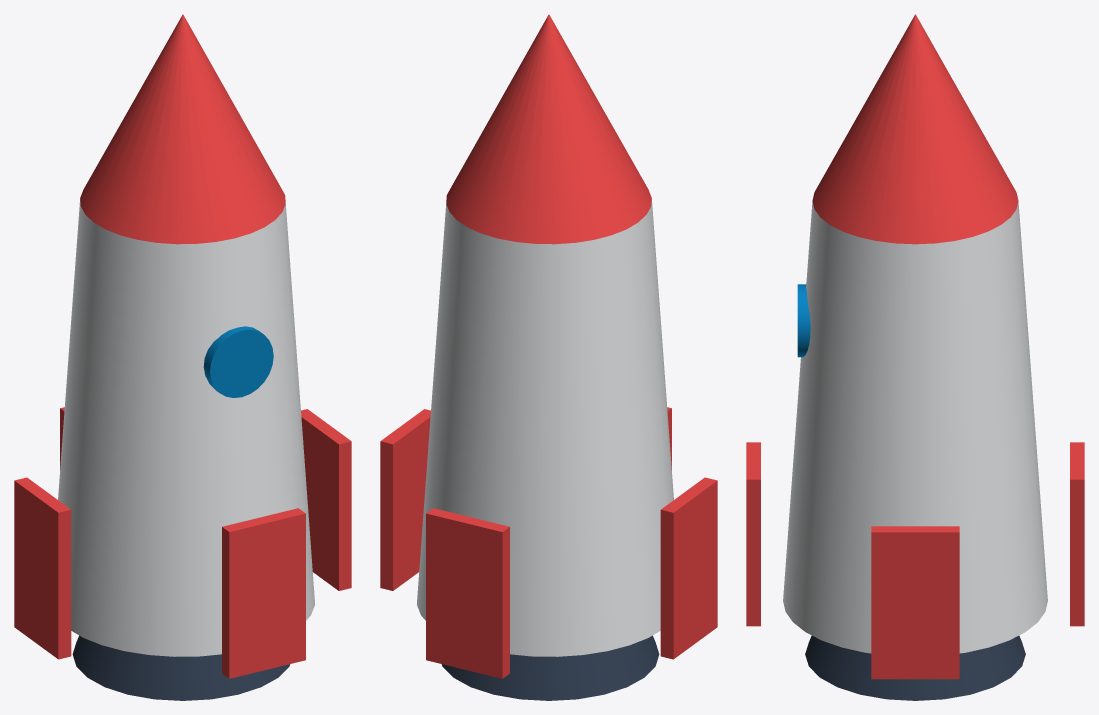
File: rocket.glb
3 views of the same model, side by side, from view 1: azimuth 30°, elevation 25°; view 2: azimuth 150°, elevation 25°; view 3: azimuth 270°, elevation 25° (orthographic).
Size of the model in its own units: 0.46 by 0.96 by 0.46.
